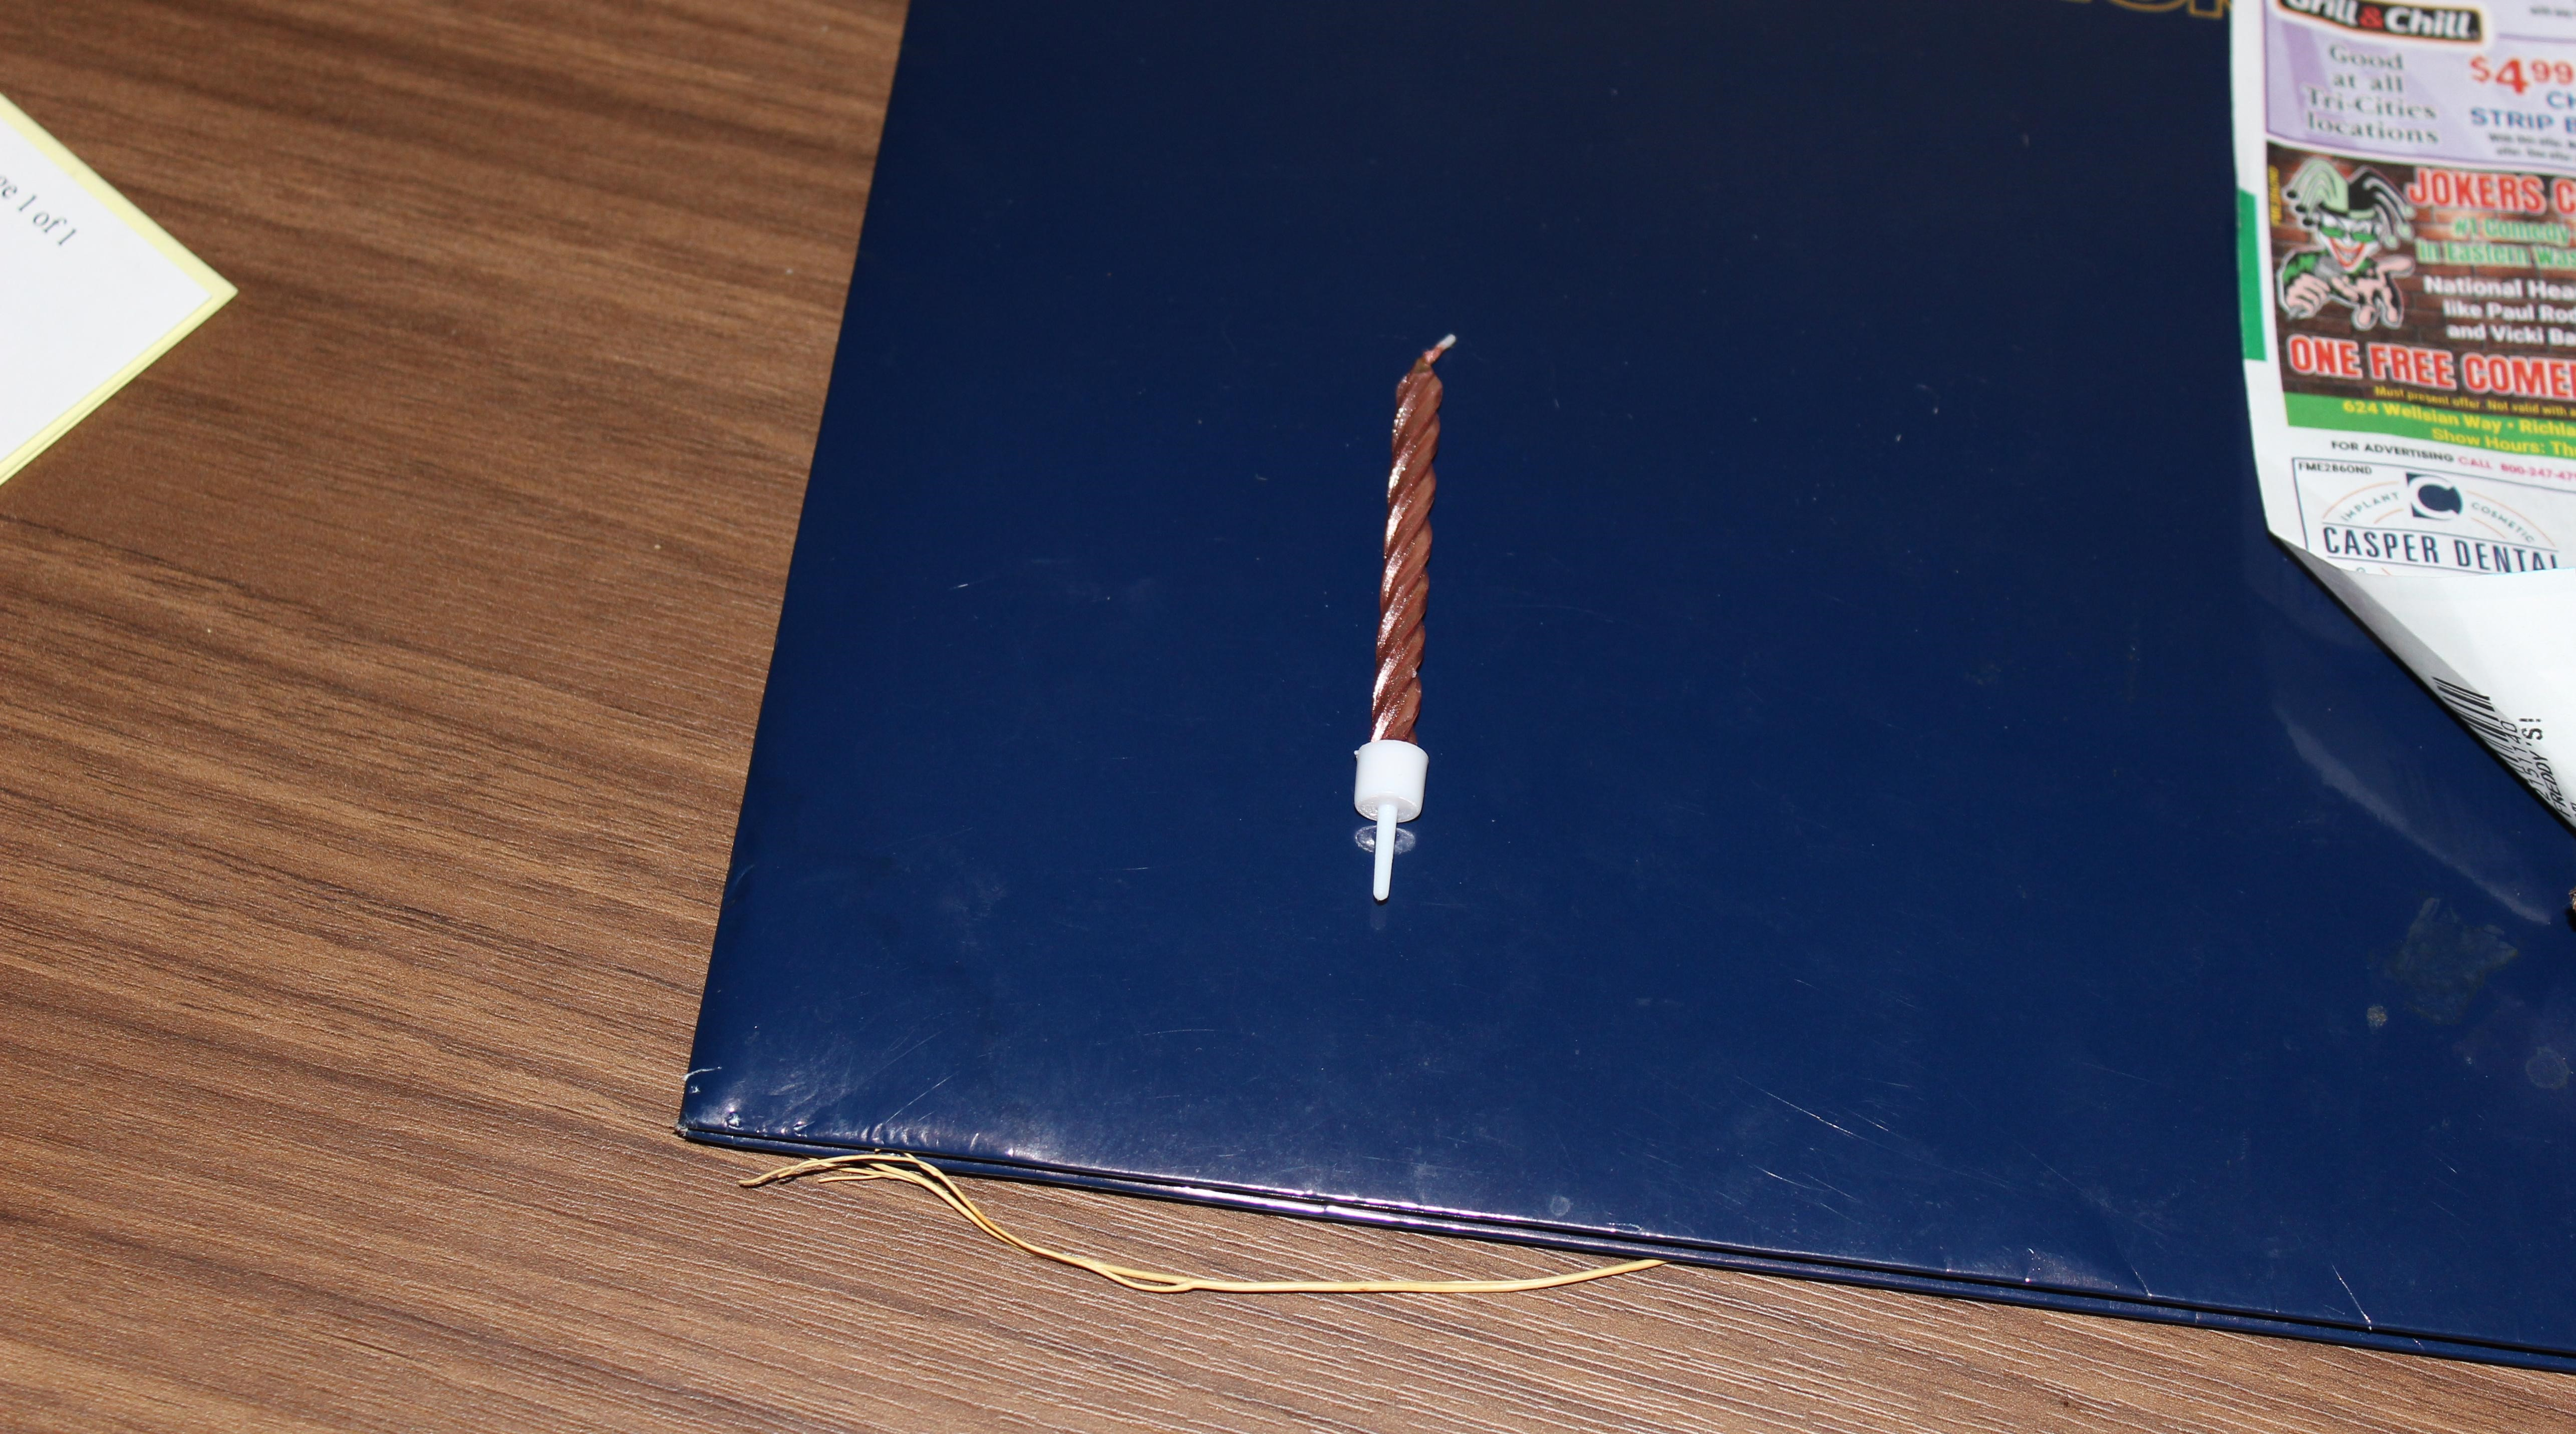pinkCandle: (1296, 302, 1497, 934)
